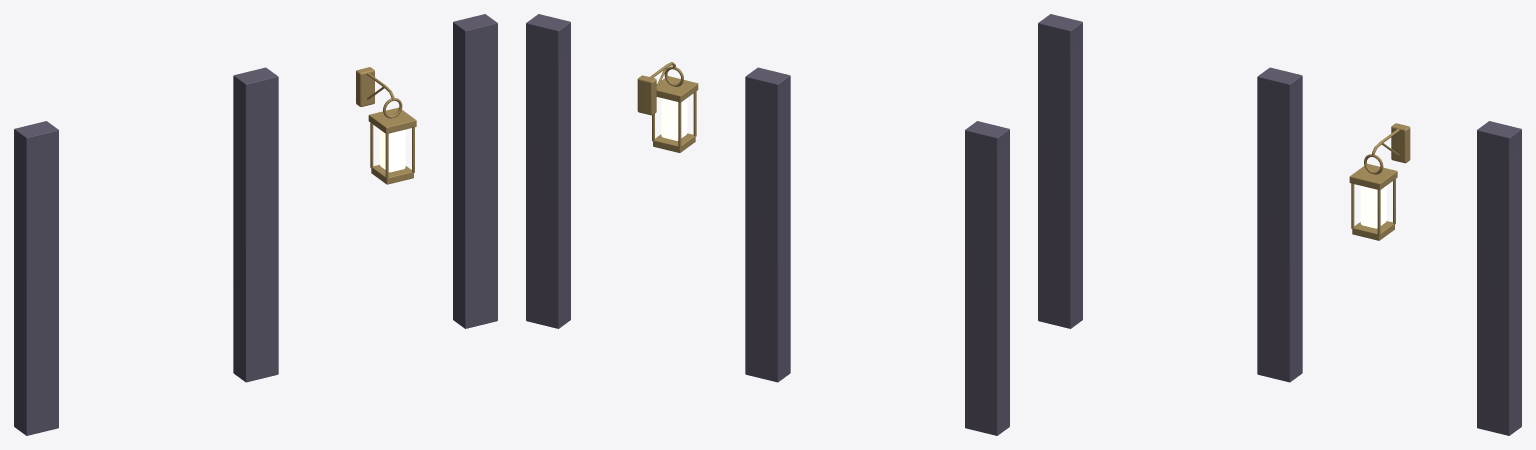
Rendered from west.glb.
3 views of the same model, side by side, from view 1: azimuth 30°, elevation 25°; view 2: azimuth 150°, elevation 25°; view 3: azimuth 330°, elevation 25° (orthographic).
Parts seen in each view (by area): view 1: wizards-workshop west; view 2: wizards-workshop west; view 3: wizards-workshop west.
Part boxes in pixels (left/top/right/bottom): wizards-workshop west: left=14, top=14, right=497, bottom=435; wizards-workshop west: left=526, top=14, right=1009, bottom=435; wizards-workshop west: left=1038, top=14, right=1521, bottom=435.
Size of the model in its own units: 4.3 by 2.6 by 0.61.
